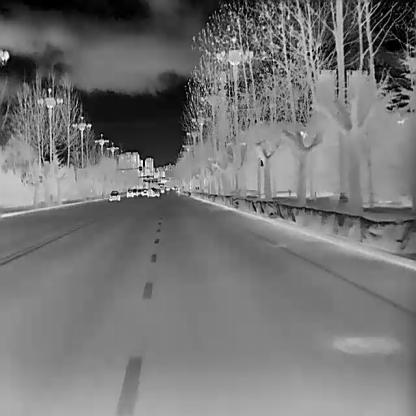car: (109, 190, 120, 202), (147, 186, 159, 197), (126, 189, 133, 197), (141, 188, 147, 196), (133, 188, 138, 196), (160, 187, 164, 192)
